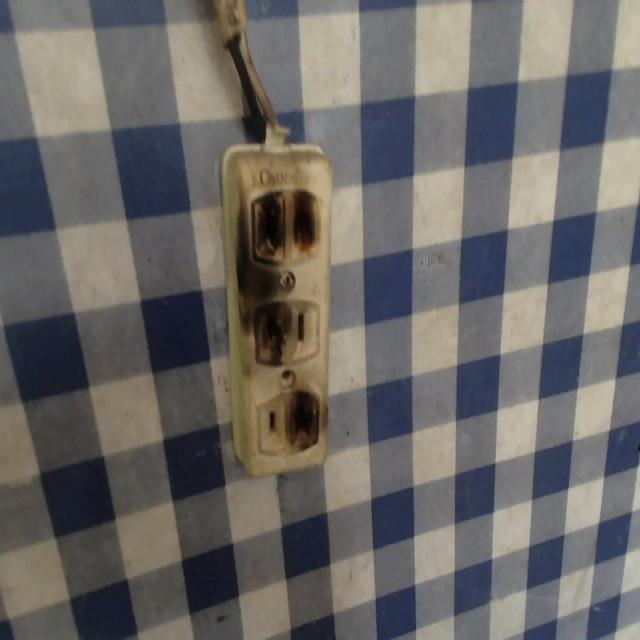-: (240, 182, 328, 274), (241, 297, 294, 379), (282, 385, 323, 463)
